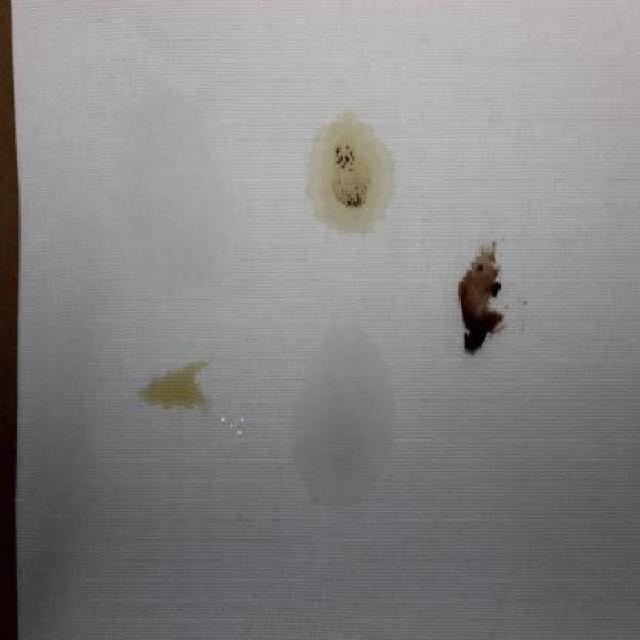Thread_other: (252, 305, 432, 549), (254, 94, 420, 266), (441, 218, 576, 402), (104, 337, 232, 429)
